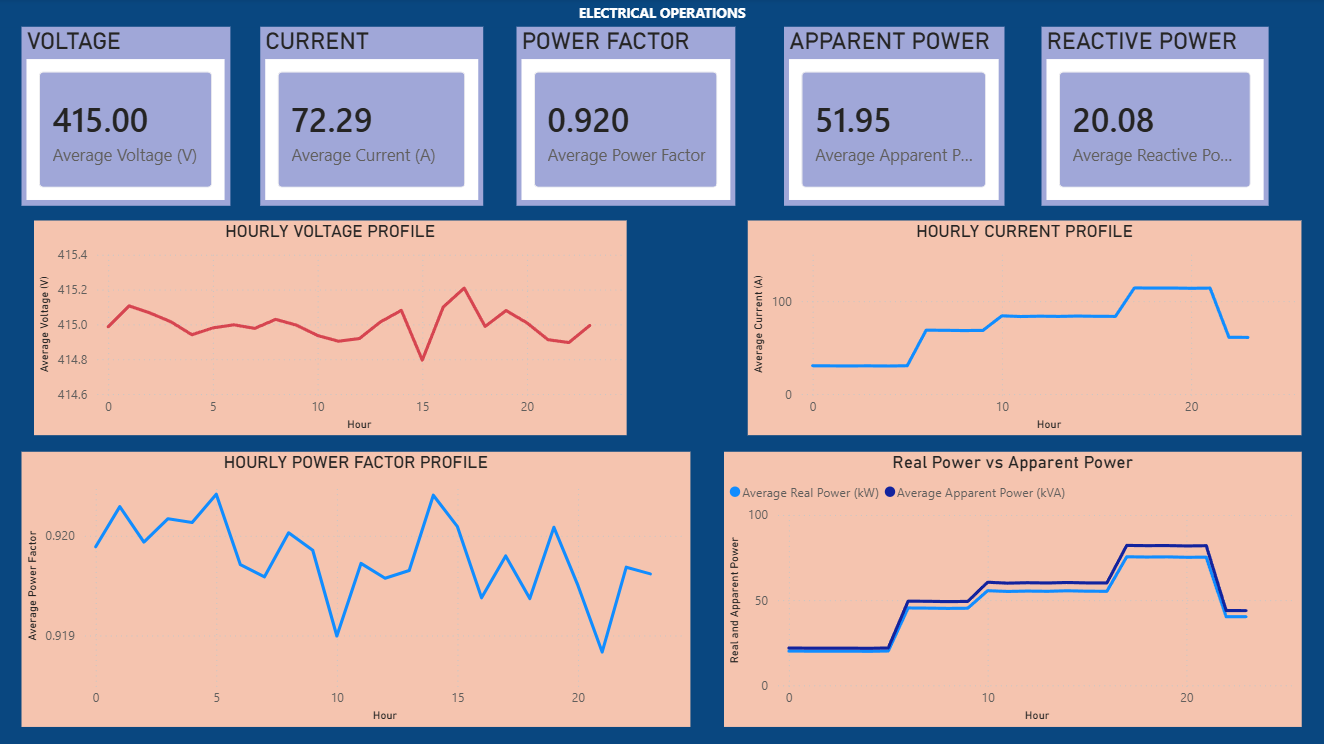

The dashboard page shown, as its layout file describes it:
{"tool":"powerbi","page":{"name":"Electrical Operations","canvas":[1280,720],"ordinal":1},"visuals":[{"type":"textbox","box":[0,0,1280,27.7],"z":0},{"type":"cardVisual","title":"VOLTAGE","fields":{"Data":["hourly_load.Average Voltage (V)"]},"box":[22,27.4,201.7,172.9],"z":2},{"type":"cardVisual","title":"CURRENT","fields":{"Data":["anomalies.Average Current (A)"]},"box":[252.5,27.4,215.4,172.9],"z":3},{"type":"cardVisual","title":"POWER FACTOR","fields":{"Data":["hourly_load.Average Power Factor"]},"box":[499.5,27.4,211.3,172.9],"z":4},{"type":"cardVisual","title":"APPARENT POWER","fields":{"Data":["hourly_load.Average Apparent Power (kVA)"]},"box":[757.5,27.4,212.7,172.9],"z":5},{"type":"cardVisual","title":"REACTIVE POWER","fields":{"Data":["hourly_load.Average Reactive Power (kVAR)"]},"box":[1005.8,27.4,219.6,172.9],"z":6},{"type":"lineChart","title":"HOURLY VOLTAGE PROFILE","fields":{"Y":["hourly_load.Average Voltage (V)"],"Category":["electricity_data.Hour"]},"box":[33.8,214.7,571.9,207.5],"z":7},{"type":"lineChart","title":"HOURLY CURRENT PROFILE","fields":{"Category":["electricity_data.Hour"],"Y":["anomalies.Average Current (A)"]},"box":[722.7,214.7,534.5,207.5],"z":8},{"type":"lineChart","title":"HOURLY POWER FACTOR PROFILE","fields":{"Category":["electricity_data.Hour"],"Y":["hourly_load.Average Power Factor"]},"box":[21.7,437.9,645.4,265.4],"z":9},{"type":"lineChart","title":"Real Power vs Apparent Power","fields":{"Category":["electricity_data.Hour"],"Y":["electricity_data.Average Real Power (kW)","hourly_load.Average Apparent Power (kVA)"]},"box":[699.7,437.9,557.4,265.4],"z":10}]}

Visuals, with their boxes in screenshot pixels (x1, y1, x2, y2), scaled from the page's 1280x720 canvas onto the 1324x744 screenshot:
textbox: left=0, top=0, right=1323, bottom=29
"VOLTAGE" cardVisual: left=23, top=28, right=231, bottom=207
"CURRENT" cardVisual: left=261, top=28, right=484, bottom=207
"POWER FACTOR" cardVisual: left=517, top=28, right=735, bottom=207
"APPARENT POWER" cardVisual: left=784, top=28, right=1004, bottom=207
"REACTIVE POWER" cardVisual: left=1040, top=28, right=1268, bottom=207
"HOURLY VOLTAGE PROFILE" lineChart: left=35, top=222, right=627, bottom=436
"HOURLY CURRENT PROFILE" lineChart: left=748, top=222, right=1300, bottom=436
"HOURLY POWER FACTOR PROFILE" lineChart: left=22, top=452, right=690, bottom=727
"Real Power vs Apparent Power" lineChart: left=724, top=452, right=1300, bottom=727
